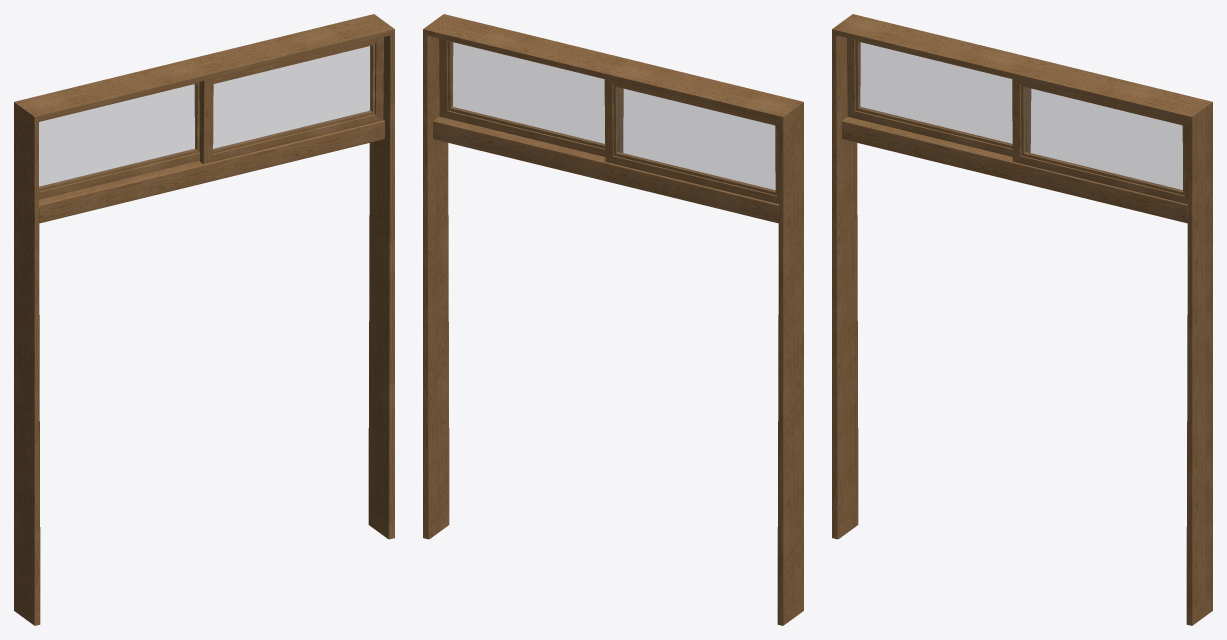
The model's file is Partition_Doorless.FBX.
The picture shows the model from 3 angles, left to right: view 1: azimuth 30°, elevation 25°; view 2: azimuth 150°, elevation 25°; view 3: azimuth 330°, elevation 25°; orthographic projection.
Visible parts, largest first — view 1: Partition_Doorless; view 2: Partition_Doorless; view 3: Partition_Doorless.
Boxes of the visible parts, x1,y1,x2,y2 form: Partition_Doorless: [14, 14, 394, 625]; Partition_Doorless: [423, 14, 803, 625]; Partition_Doorless: [832, 14, 1212, 625].
Bounding box in the file's own units: 200 × 270 × 20.
